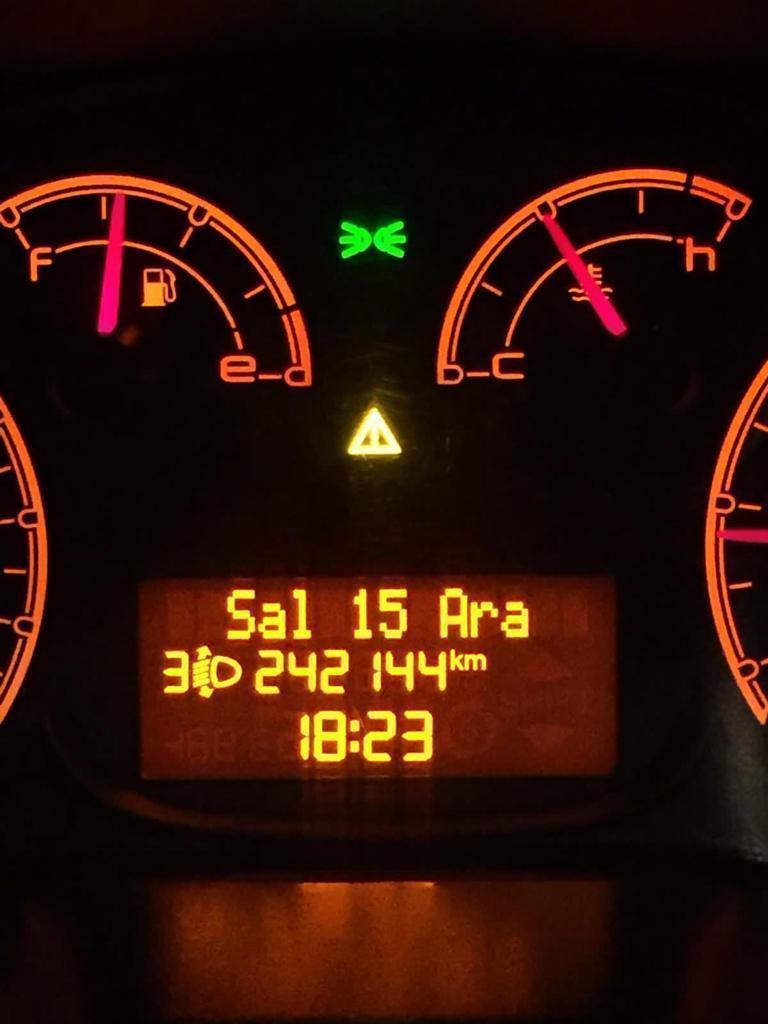1: (350, 583, 373, 647), (297, 708, 312, 765), (370, 646, 385, 697)
2: (363, 707, 398, 766), (252, 646, 286, 696), (319, 646, 350, 694)
3: (402, 708, 435, 763), (161, 646, 189, 697)
4: (416, 646, 447, 693), (287, 646, 317, 693), (386, 646, 414, 693)
5: (377, 584, 413, 641)
8: (313, 708, 346, 765)
X: (225, 585, 256, 644), (439, 586, 469, 639), (290, 585, 315, 643), (501, 598, 532, 639), (470, 598, 500, 638), (258, 598, 287, 639), (348, 714, 362, 757), (464, 651, 488, 674), (449, 645, 463, 673)
odometer: (129, 567, 630, 789)
